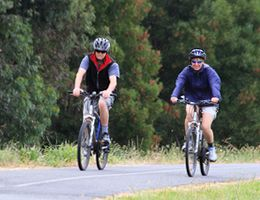cyclist_front: (171, 48, 220, 181), (69, 36, 115, 172)
